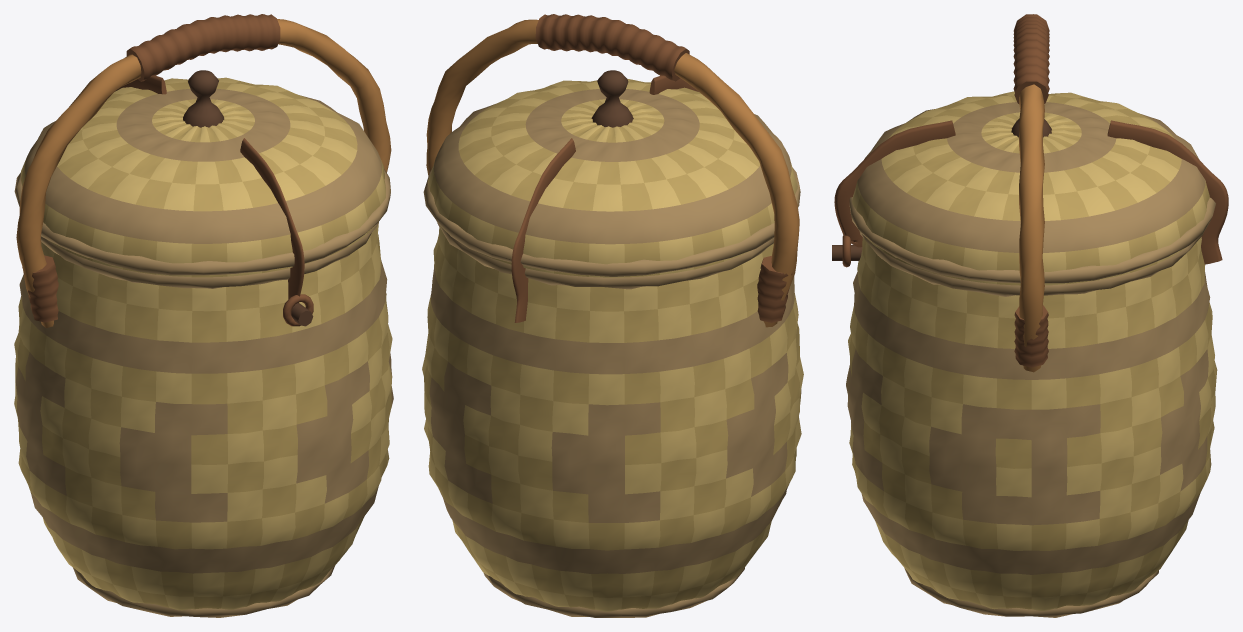
The model's file is carry_basket_wicker.fbx.
The picture shows the model from 3 angles, left to right: view 1: azimuth 30°, elevation 25°; view 2: azimuth 150°, elevation 25°; view 3: azimuth 270°, elevation 25°; orthographic projection. The views are drawn at different scales.
Visible parts, largest first — view 1: Carry_Basket_Wicker_Body, Carry_Basket_Wicker_Lid, Carry_Basket_Wicker_Bail, Carry_Basket_Wicker_Leather; view 2: Carry_Basket_Wicker_Body, Carry_Basket_Wicker_Lid, Carry_Basket_Wicker_Bail, Carry_Basket_Wicker_Leather; view 3: Carry_Basket_Wicker_Body, Carry_Basket_Wicker_Lid, Carry_Basket_Wicker_Bail, Carry_Basket_Wicker_Leather.
Part boxes in pixels (x1,y1,x2,y2): Carry_Basket_Wicker_Body: (14,222,393,617); Carry_Basket_Wicker_Lid: (14,70,390,277); Carry_Basket_Wicker_Bail: (16,14,391,328); Carry_Basket_Wicker_Leather: (115,75,313,326); Carry_Basket_Wicker_Body: (422,220,803,617); Carry_Basket_Wicker_Lid: (423,70,800,277); Carry_Basket_Wicker_Bail: (426,14,799,327); Carry_Basket_Wicker_Leather: (511,75,698,322); Carry_Basket_Wicker_Body: (846,231,1217,617); Carry_Basket_Wicker_Lid: (849,91,1215,285); Carry_Basket_Wicker_Bail: (1013,14,1049,372); Carry_Basket_Wicker_Leather: (832,120,1228,267).
Bounding box in the file's own units: 54.44 × 76.35 × 51.75.
